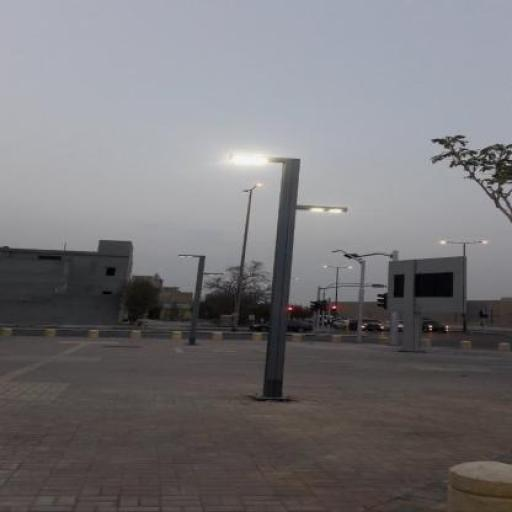street light: (225, 153, 302, 396), (230, 184, 266, 330), (439, 239, 488, 334), (324, 265, 353, 324)
